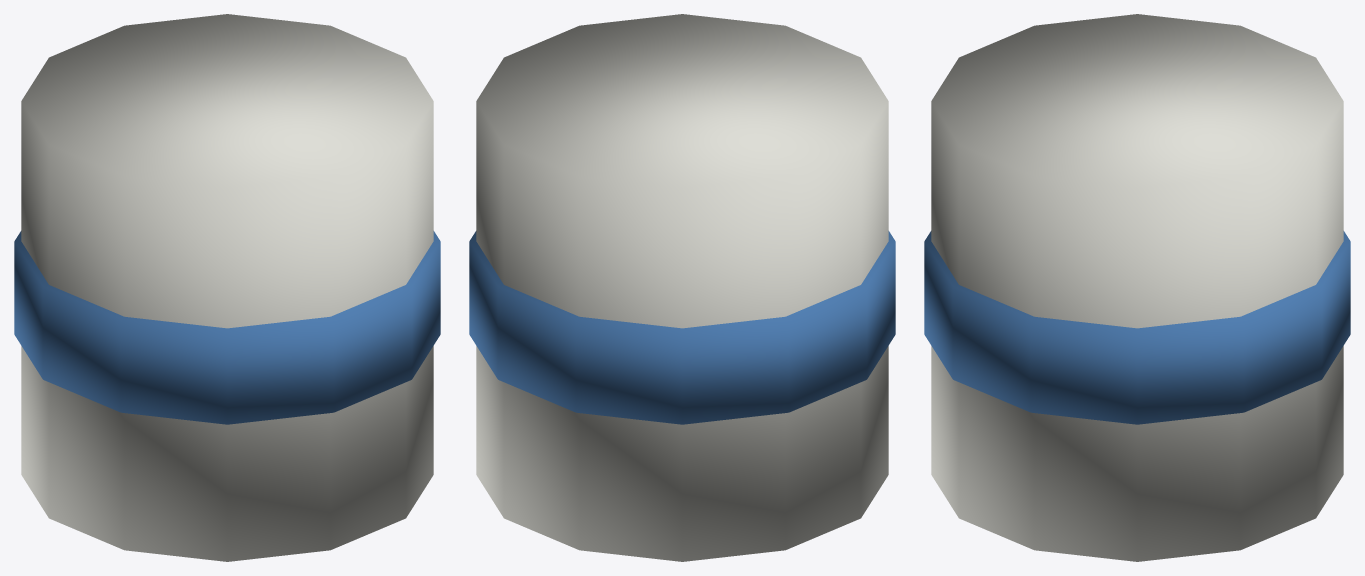
The model's file is bandage.glb.
The picture shows the model from 3 angles, left to right: view 1: azimuth 30°, elevation 25°; view 2: azimuth 150°, elevation 25°; view 3: azimuth 270°, elevation 25°; orthographic projection.
Parts seen in each view (by area): view 1: Item; view 2: Item; view 3: Item.
Boxes of the visible parts, left/top/right/bottom form: Item: left=14, top=14, right=440, bottom=561; Item: left=469, top=14, right=895, bottom=561; Item: left=924, top=14, right=1350, bottom=561.
Bounding box in the file's own units: 0.062 × 0.06 × 0.062.
